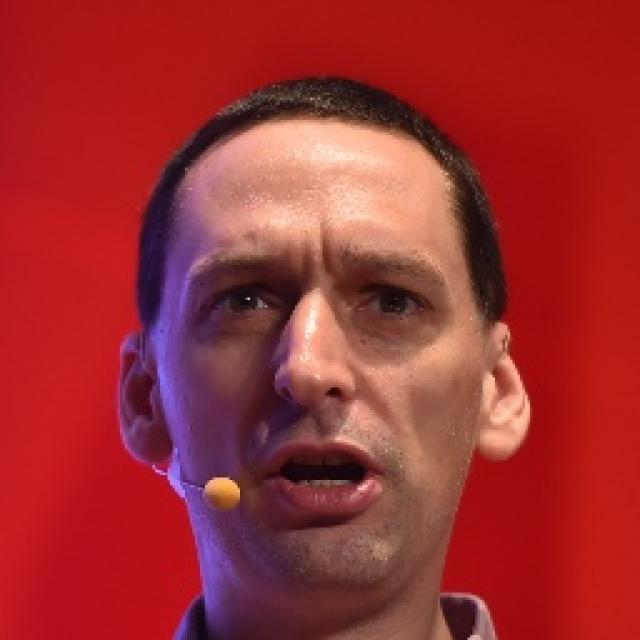earlobe: (475, 322, 531, 460), (117, 331, 175, 463)
